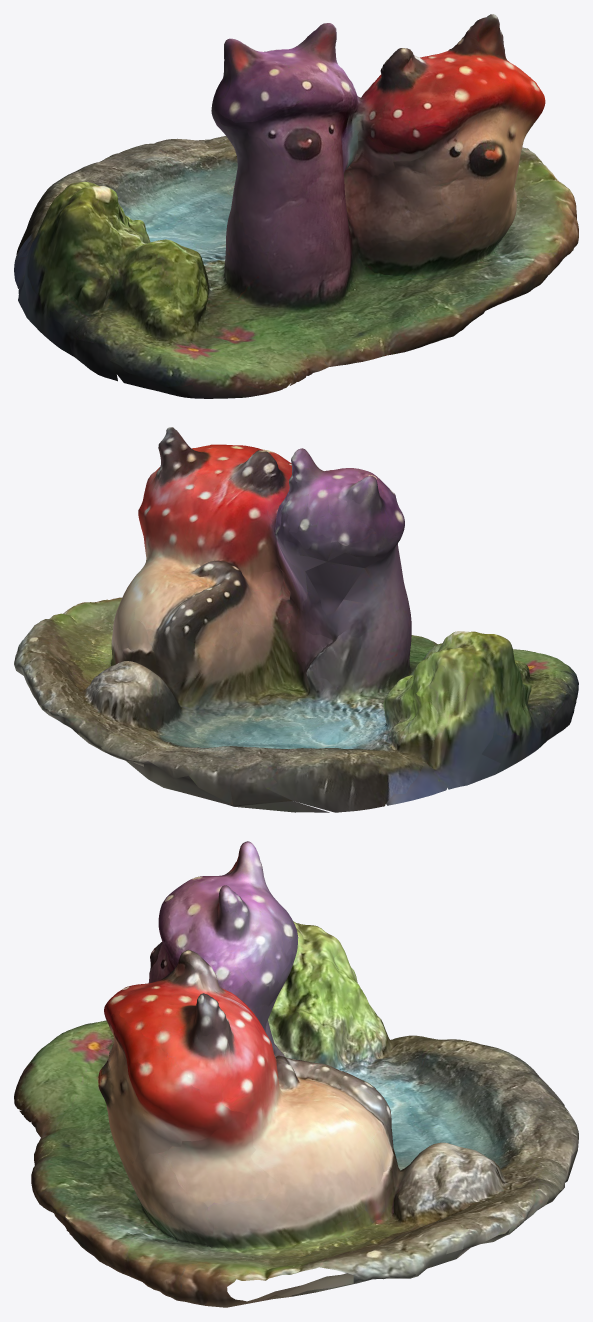
File: Cats.glb
3 renders of one model, top to bottom at view 1: azimuth 30°, elevation 25°; view 2: azimuth 150°, elevation 25°; view 3: azimuth 270°, elevation 25°, orthographic. The views are drawn at different scales.
Parts seen in each view (by area): view 1: Cats; view 2: Cats; view 3: Cats.
Part boxes in pixels (box(x1,y1,x2,y2)): Cats: box(14, 14, 578, 398); Cats: box(14, 427, 578, 812); Cats: box(14, 841, 578, 1307).
Size of the model in its own units: 2 by 0.9856 by 1.71.
1 material, 1 textured.
